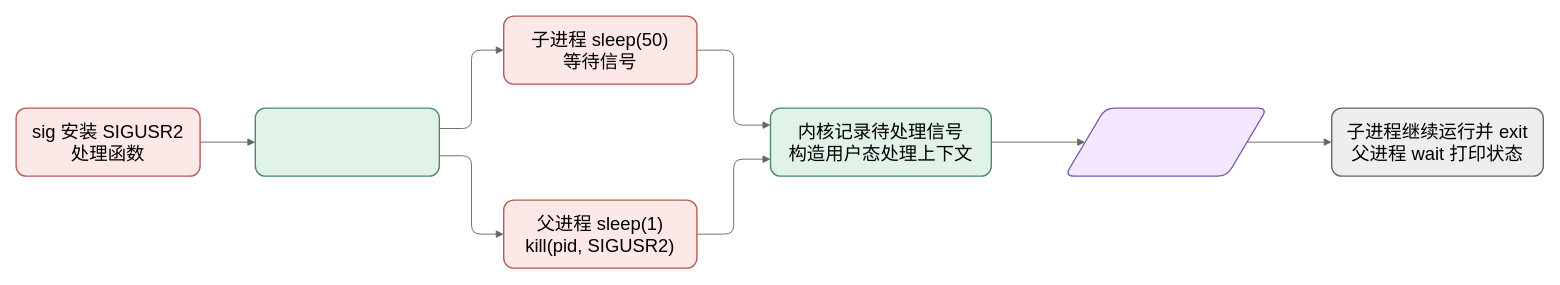
This 1560x285 diagram has some shape labels left out. The shapes that lost their labels are listed below. From the top down, each one's centre as x and y in pixels, then its label:
At pixel 347 141: "fork 创建子进程".
At pixel 1166 141: "子进程执行处理函数 打印 SIGUSR2 信息".
